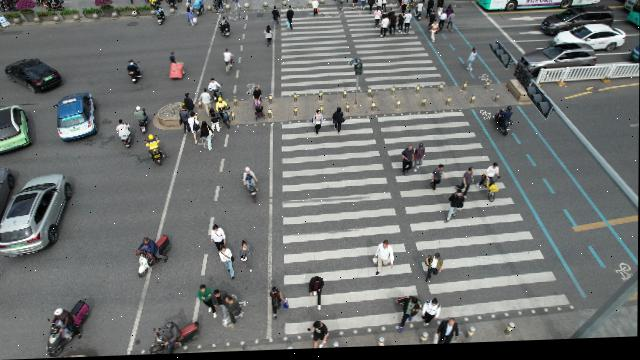non-motor-vehicle: (48, 299, 92, 357), (147, 318, 205, 356), (136, 235, 175, 277), (401, 146, 429, 178), (241, 168, 260, 205), (143, 136, 164, 167), (213, 104, 233, 131), (496, 113, 514, 140), (126, 60, 143, 86), (116, 121, 131, 150), (168, 63, 187, 83), (222, 52, 234, 77), (217, 19, 230, 40), (137, 108, 150, 125), (156, 9, 168, 26), (415, 3, 424, 24), (419, 0, 426, 9), (411, 0, 417, 10)
person: (397, 294, 423, 336), (373, 241, 396, 280), (215, 249, 238, 282), (198, 285, 217, 323), (226, 296, 245, 330), (270, 285, 289, 319), (250, 86, 267, 123), (213, 288, 231, 321), (308, 322, 330, 349), (426, 251, 444, 284), (448, 193, 466, 226), (310, 276, 326, 313), (423, 300, 441, 329), (439, 321, 459, 347), (485, 165, 502, 188), (211, 227, 227, 250), (334, 111, 347, 135), (465, 53, 480, 73), (207, 79, 223, 94), (434, 169, 447, 185), (265, 28, 275, 48), (405, 13, 413, 37), (310, 0, 320, 19), (463, 172, 474, 189), (182, 94, 193, 111), (430, 23, 438, 46), (185, 12, 197, 27), (271, 8, 280, 28), (314, 121, 325, 137), (229, 0, 242, 13), (381, 18, 388, 42), (448, 14, 456, 35), (240, 242, 251, 256), (391, 14, 397, 39), (398, 14, 404, 38), (427, 0, 434, 20), (436, 0, 443, 19), (374, 10, 380, 32), (446, 7, 453, 25), (388, 9, 395, 26), (337, 0, 346, 13), (436, 168, 447, 178), (286, 10, 294, 23), (217, 0, 225, 13), (430, 14, 436, 31), (440, 14, 445, 34), (375, 0, 382, 14), (381, 12, 388, 26), (169, 53, 177, 65), (351, 0, 359, 12), (368, 0, 374, 16), (402, 0, 408, 16), (213, 0, 219, 13), (266, 28, 274, 37), (360, 0, 365, 14), (398, 0, 403, 12), (382, 0, 387, 11)
